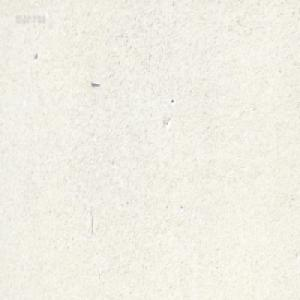Nail: (90, 80, 100, 85)
